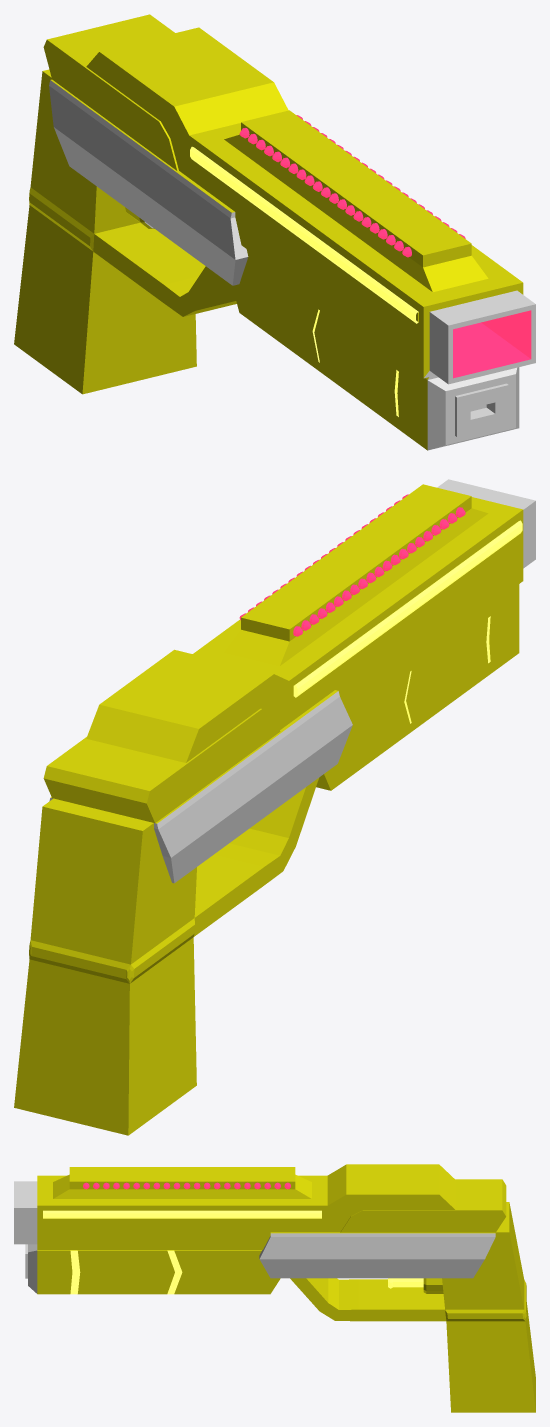
Rendered from LaserGun2.glb.
3 views of the same model, one above another, from view 1: azimuth 30°, elevation 25°; view 2: azimuth 150°, elevation 25°; view 3: azimuth 270°, elevation 25° (orthographic). The views are drawn at different scales.
Visible parts, largest first — view 1: LaserGun2_Tris; view 2: LaserGun2_Tris; view 3: LaserGun2_Tris.
Boxes of the visible parts, x1=… form: LaserGun2_Tris: x1=14, y1=14, x2=535, y2=450; LaserGun2_Tris: x1=14, y1=479, x2=535, y2=1135; LaserGun2_Tris: x1=14, y1=1164, x2=535, y2=1412.
Size of the model in its own units: 0.0605 by 0.1753 by 0.3755.
